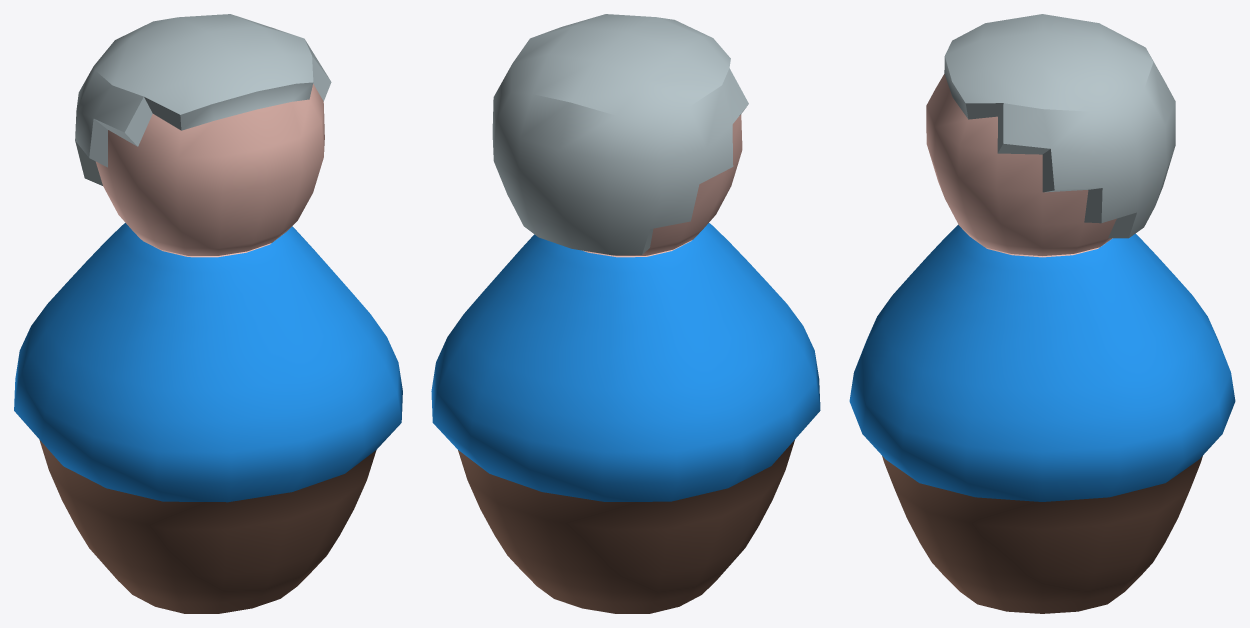
Rendered from char_male2.fbx.
3 renders of one model, left to right at view 1: azimuth 30°, elevation 25°; view 2: azimuth 150°, elevation 25°; view 3: azimuth 270°, elevation 25°, orthographic.
Visible parts, largest first — view 1: char_male2; view 2: char_male2; view 3: char_male2.
Part boxes in pixels (box(x1,y1,x2,y2)): char_male2: box(14, 14, 402, 613); char_male2: box(431, 14, 820, 613); char_male2: box(849, 14, 1235, 613).
Size of the model in its own units: 126 by 196 by 126.
Materials: 1 (1 with a texture image).
